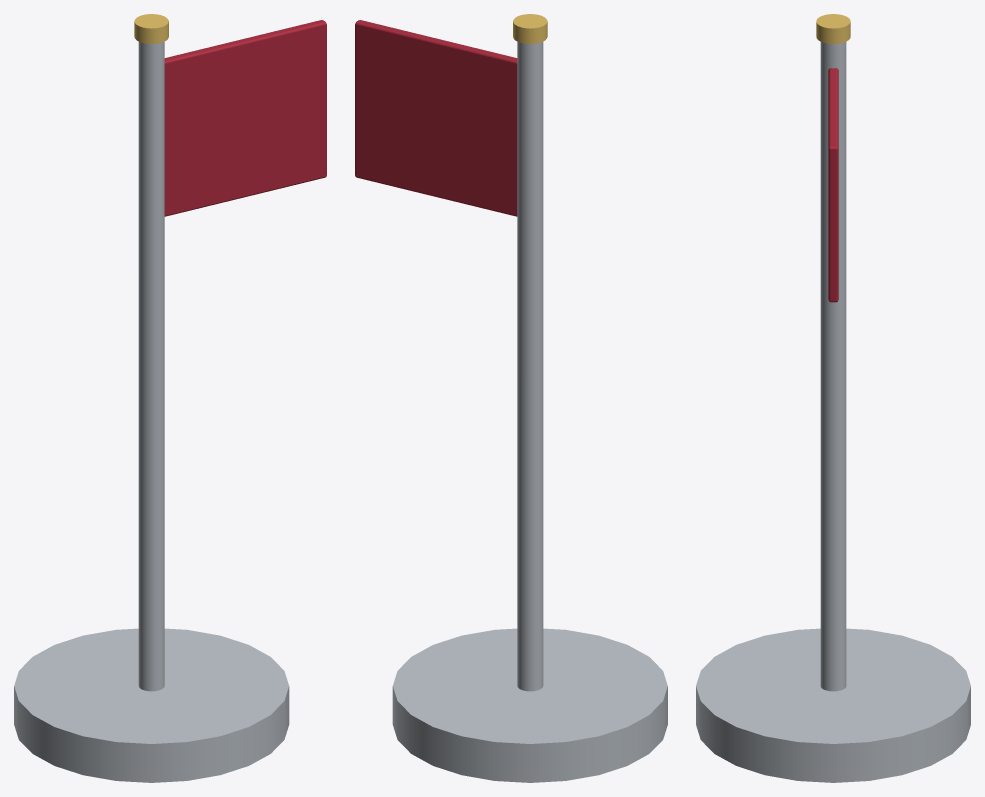
The model's file is arena-shooter-map-kit-flag-base-c6363027__23127.glb.
3 renders of one model, left to right at view 1: azimuth 30°, elevation 25°; view 2: azimuth 150°, elevation 25°; view 3: azimuth 270°, elevation 25°, orthographic.
Visible parts, largest first — view 1: flag-base; view 2: flag-base; view 3: flag-base.
Boxes of the visible parts, box(x1,y1,x2,y2) form: flag-base: box(14, 14, 326, 782); flag-base: box(355, 14, 667, 782); flag-base: box(696, 14, 970, 782).
Bounding box in the file's own units: 1.18 × 2.71 × 0.9599.
